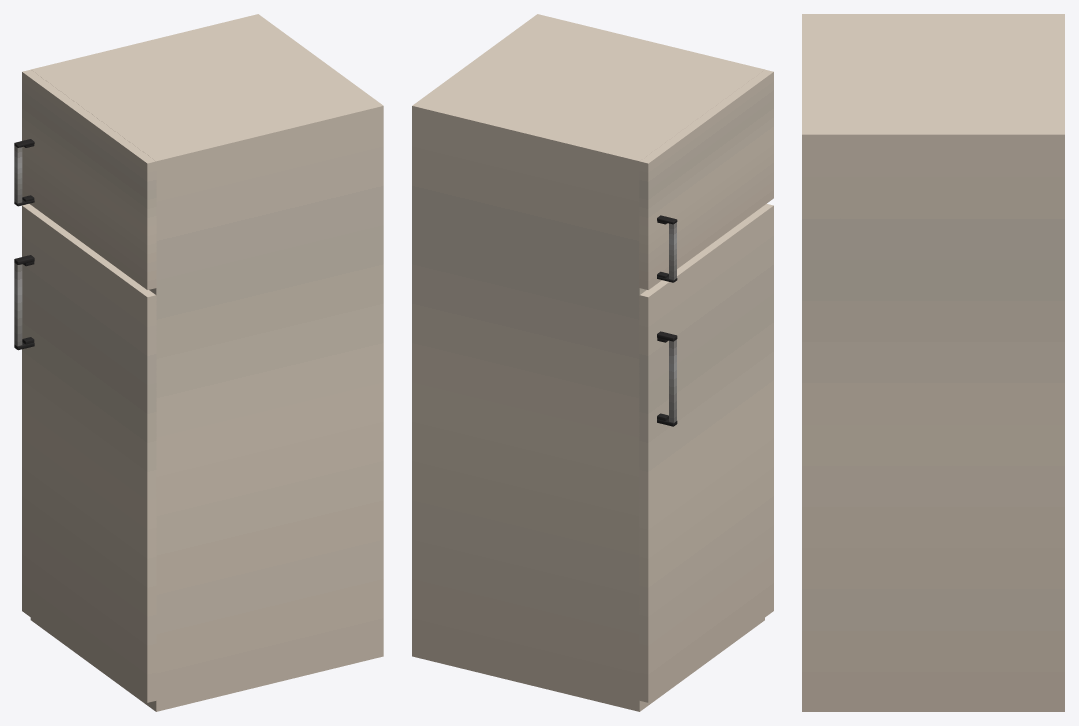
The model's file is fridge2.fbx.
3 renders of one model, left to right at view 1: azimuth 30°, elevation 25°; view 2: azimuth 150°, elevation 25°; view 3: azimuth 270°, elevation 25°, orthographic. The views are drawn at different scales.
Parts seen in each view (by area): view 1: fridge2; view 2: fridge2; view 3: fridge2.
Boxes of the visible parts, left/top/right/bottom form: fridge2: left=14, top=14, right=383, bottom=711; fridge2: left=412, top=14, right=773, bottom=711; fridge2: left=802, top=14, right=1064, bottom=711.
Size of the model in its own units: 130 by 271 by 112.
